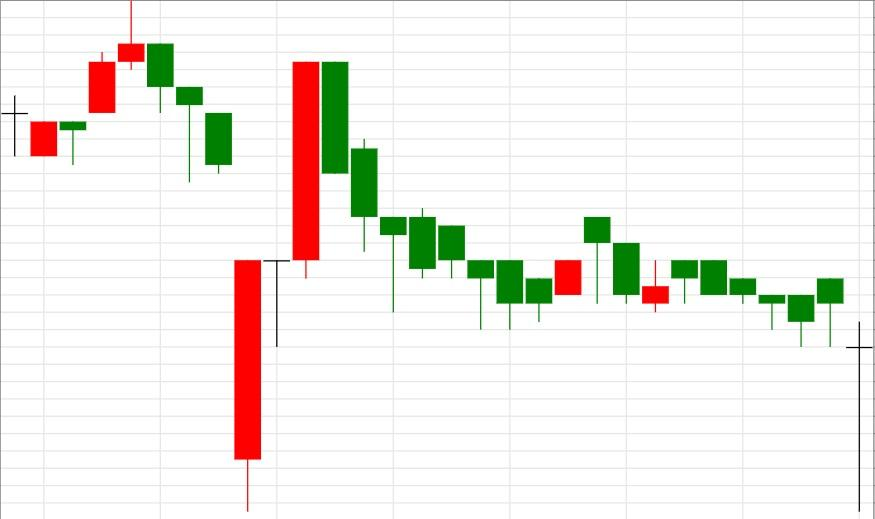hanging_man_fall: (496, 216, 611, 330)
three_black_crows_fall: (30, 0, 233, 182)
